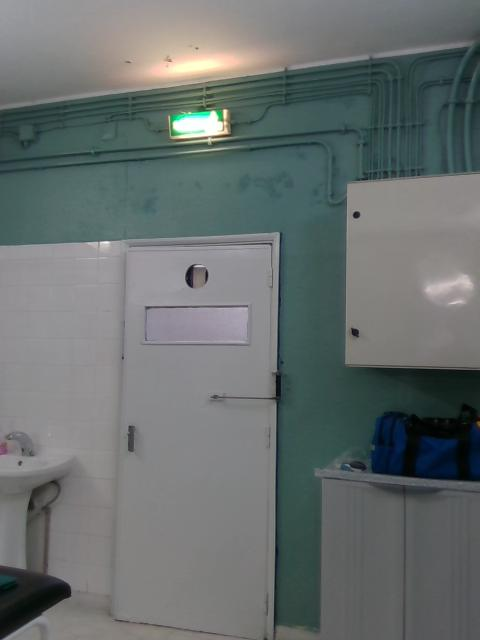door: (123, 242, 273, 639)
